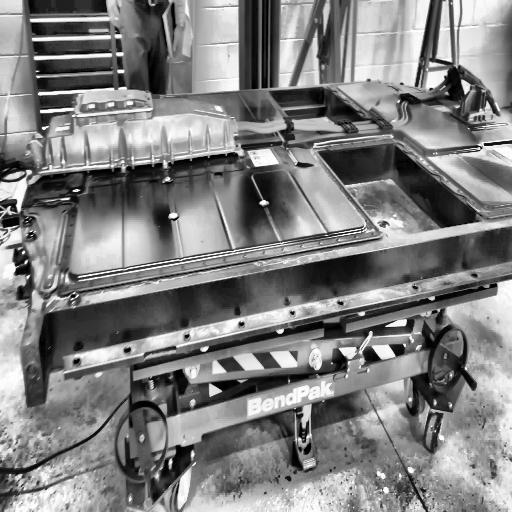b_casing: (25, 82, 512, 369)
bms_unit: (25, 81, 237, 166)
high_volt_cable: (233, 63, 502, 131)
